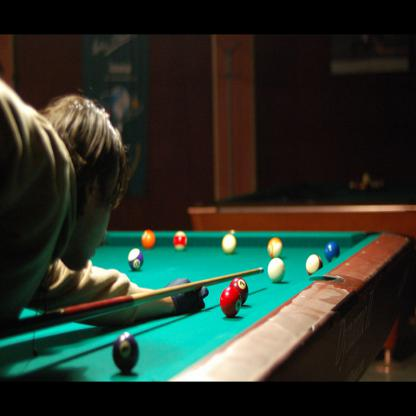Ball: (112, 332, 140, 370), (219, 286, 241, 318), (229, 275, 249, 306), (266, 257, 286, 283), (305, 252, 323, 278), (266, 236, 284, 258), (128, 248, 144, 272), (324, 240, 340, 262), (140, 229, 156, 250), (173, 230, 187, 252)
